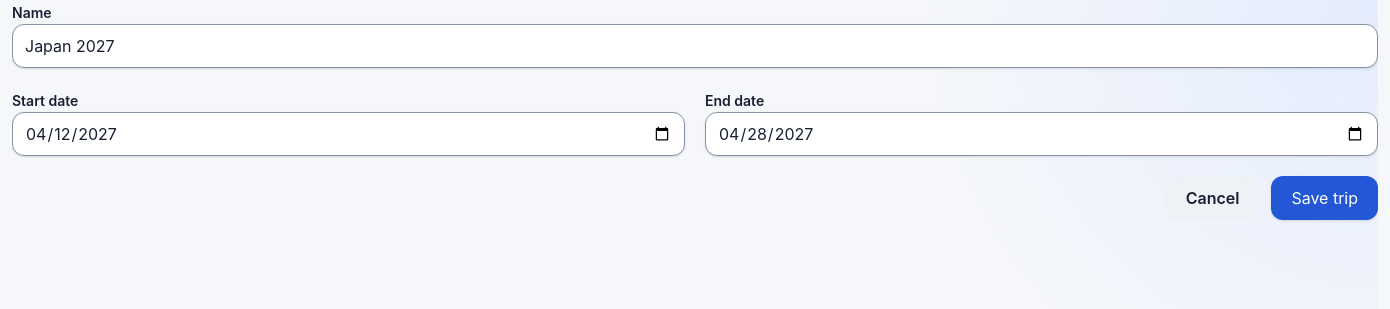
EditTripScreen › explains when a date change would remove planned items
Expected: the field labelled "Name" is shown, [12,24,1378,68]
Click the button "Save trip".
click(1325, 198)  # box [1271,176,1378,220]
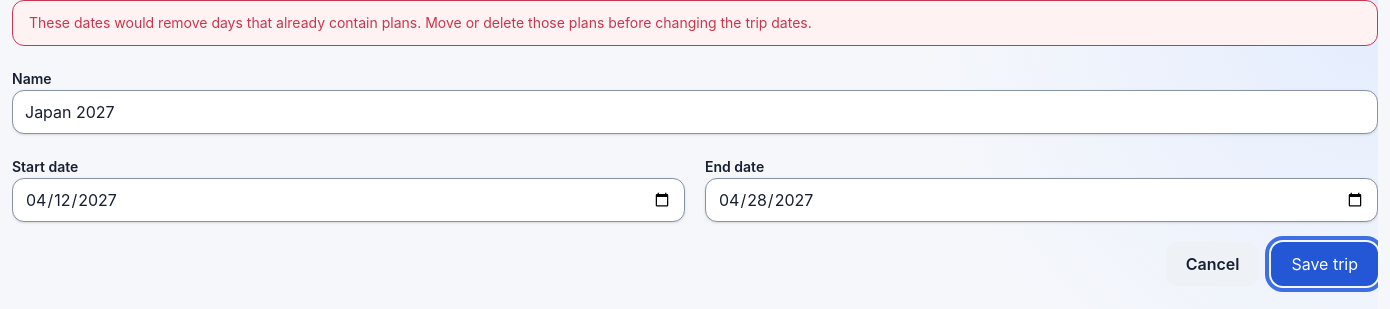
Now the message shows "These dates would remove days that already contain plans.", box [29,14,812,31]
